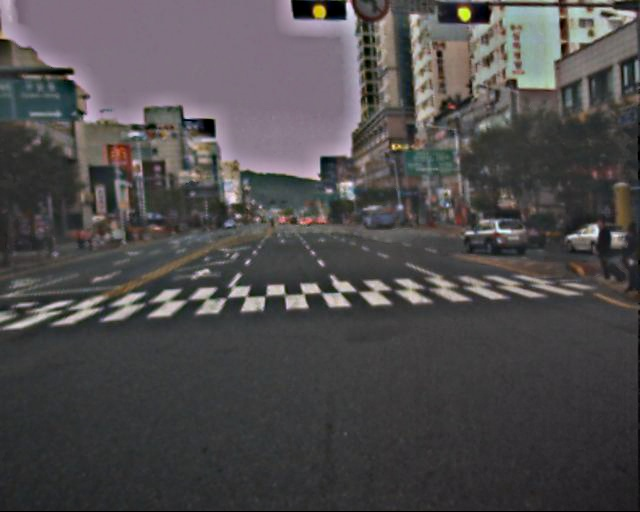person: (584, 214, 617, 286), (610, 222, 640, 292), (558, 216, 577, 254)
